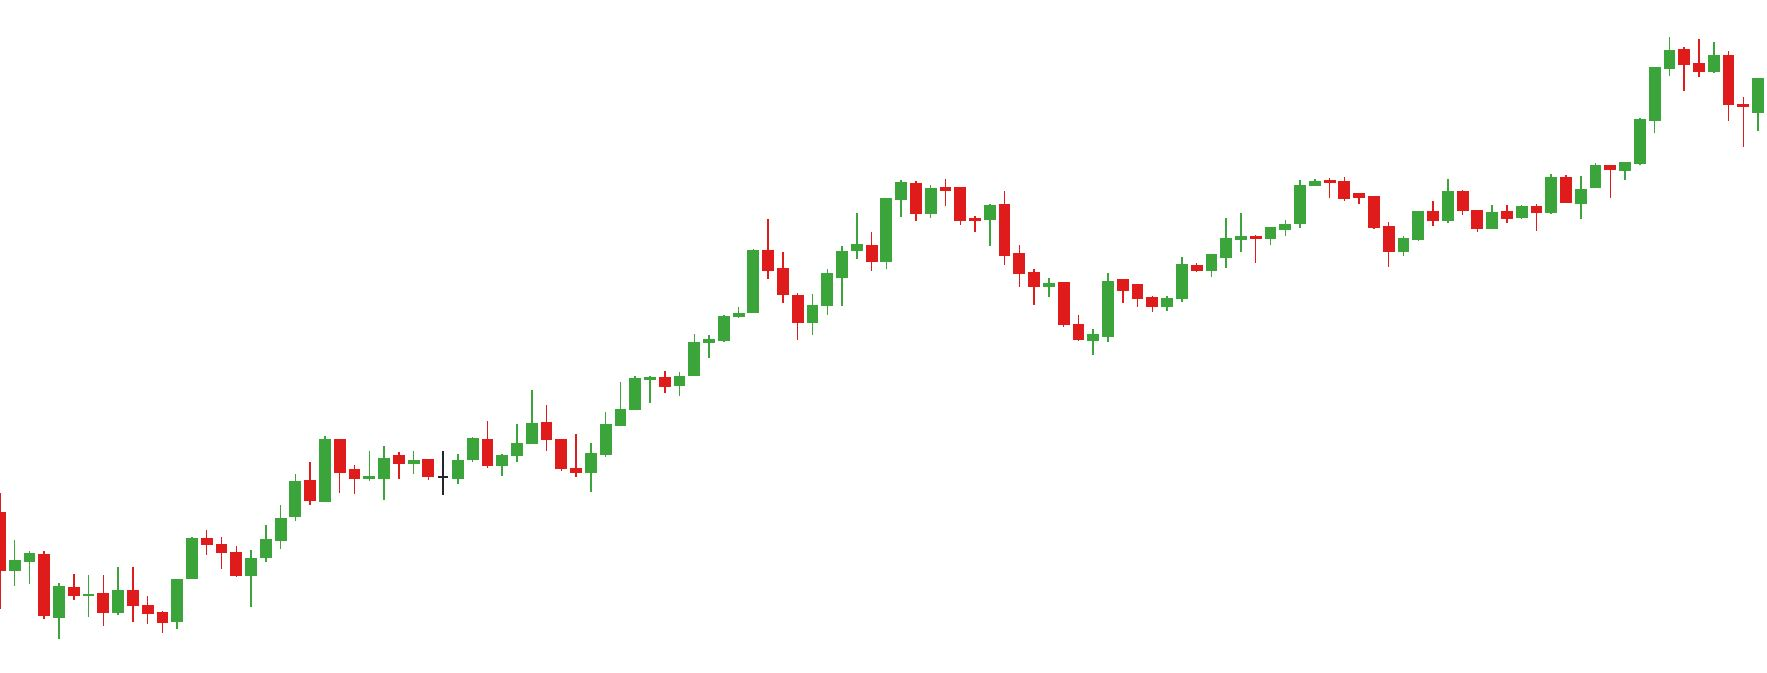buy: (495, 427, 600, 492)
